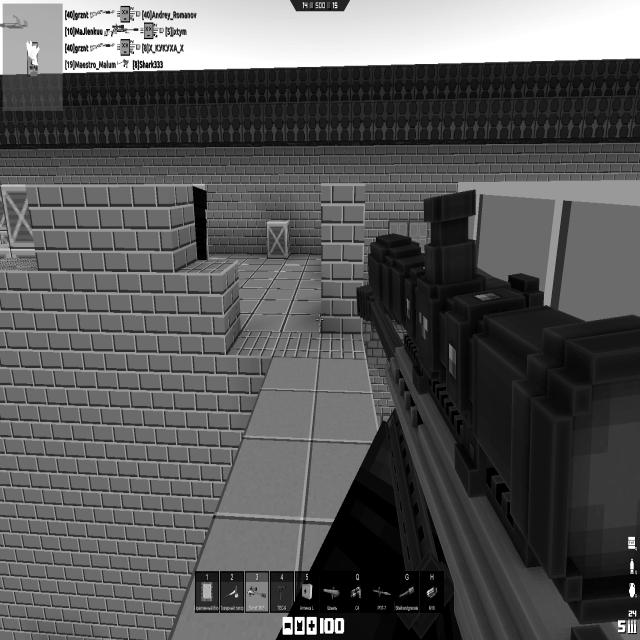Head: (192, 184, 208, 220)
Player: (192, 184, 208, 260)
